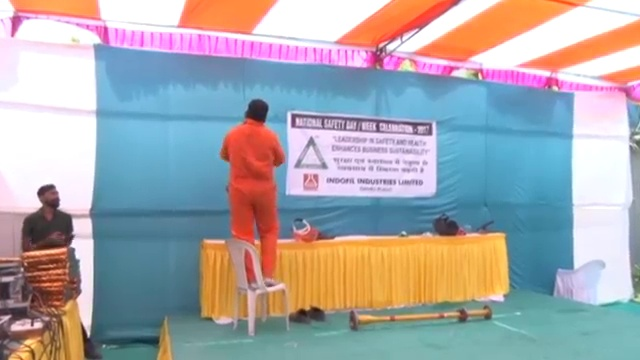helmet_off: (36, 182, 62, 212), (243, 98, 270, 126)
person: (216, 98, 288, 289), (19, 181, 76, 249)
